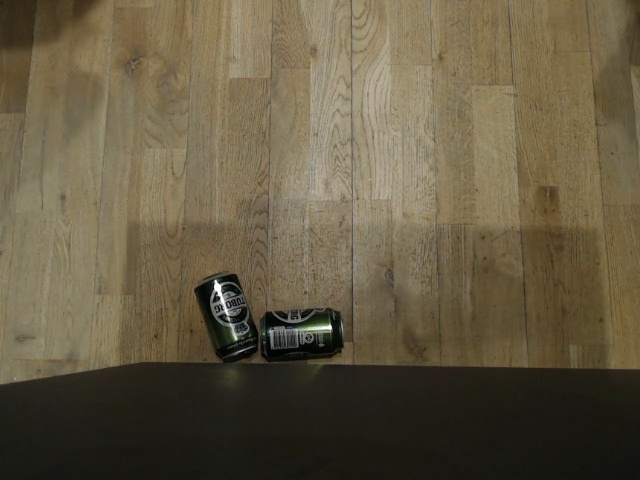beer: (195, 270, 260, 360), (260, 306, 344, 361)
